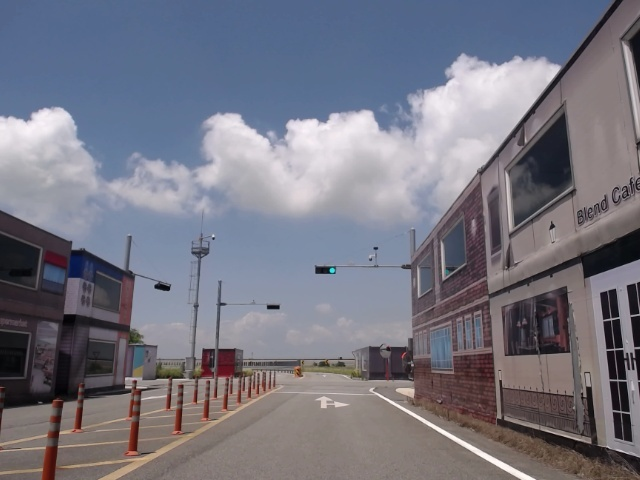green_3: (316, 267, 336, 274)
